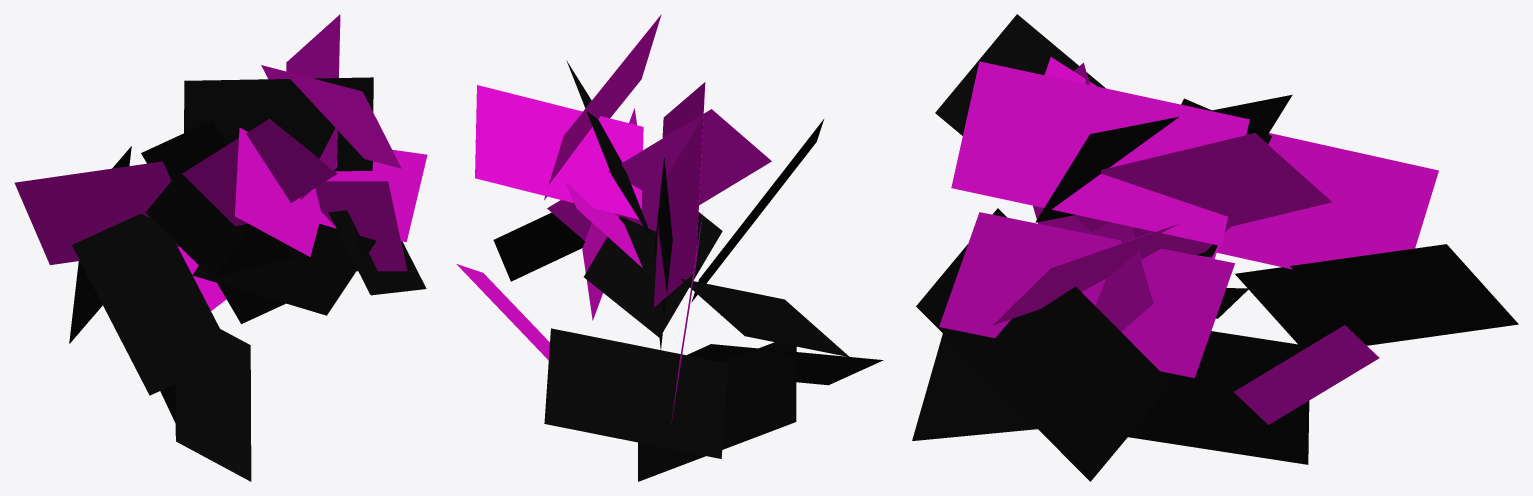
The model's file is EnemyRun.glb.
3 renders of one model, left to right at view 1: azimuth 30°, elevation 25°; view 2: azimuth 150°, elevation 25°; view 3: azimuth 270°, elevation 25°, orthographic. The views are drawn at different scales.
Parts seen in each view (by area): view 1: Cube.001; view 2: Cube.001; view 3: Cube.001.
Boxes of the visible parts, x1,y1,x2,y2 form: Cube.001: (14, 14, 427, 481); Cube.001: (456, 14, 883, 481); Cube.001: (912, 14, 1518, 481).
Size of the model in its own units: 2.62 by 2.8 by 3.27.
